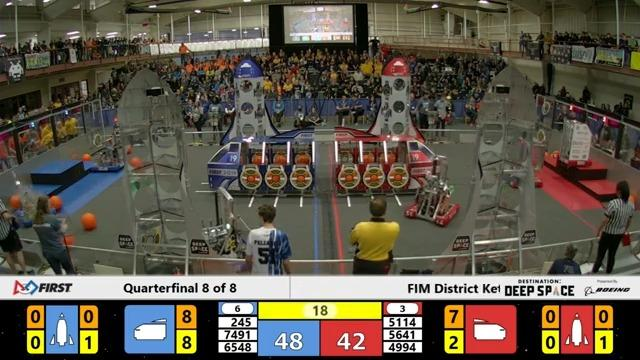robot: (196, 181, 255, 260), (412, 167, 459, 228), (501, 131, 548, 187), (559, 114, 601, 170), (88, 130, 130, 172)
